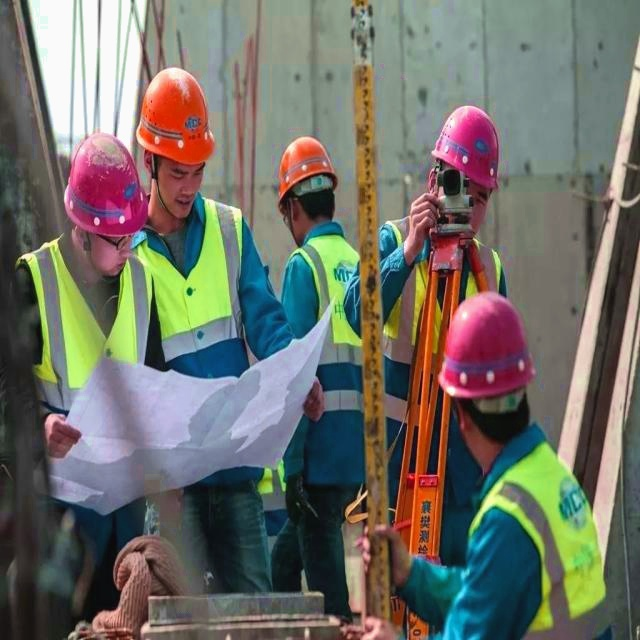Con_Casco: (136, 64, 214, 209)
Con_Chaleco: (463, 456, 603, 625), (21, 242, 146, 380)
